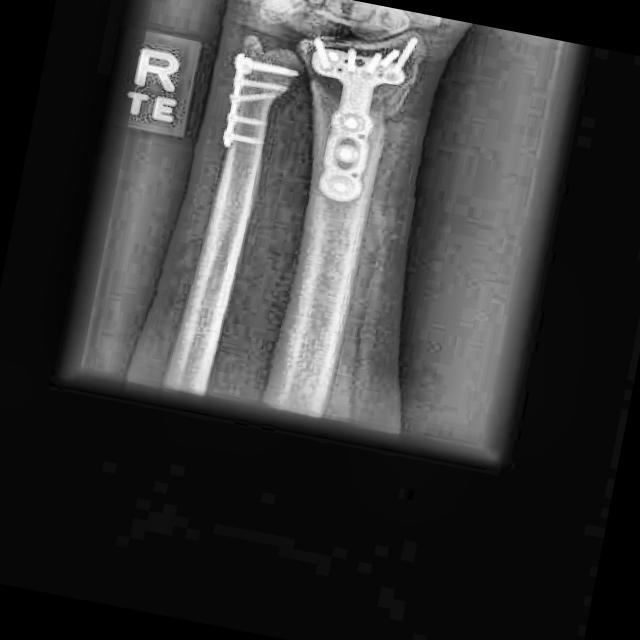wrist positive: (281, 60, 430, 138)
